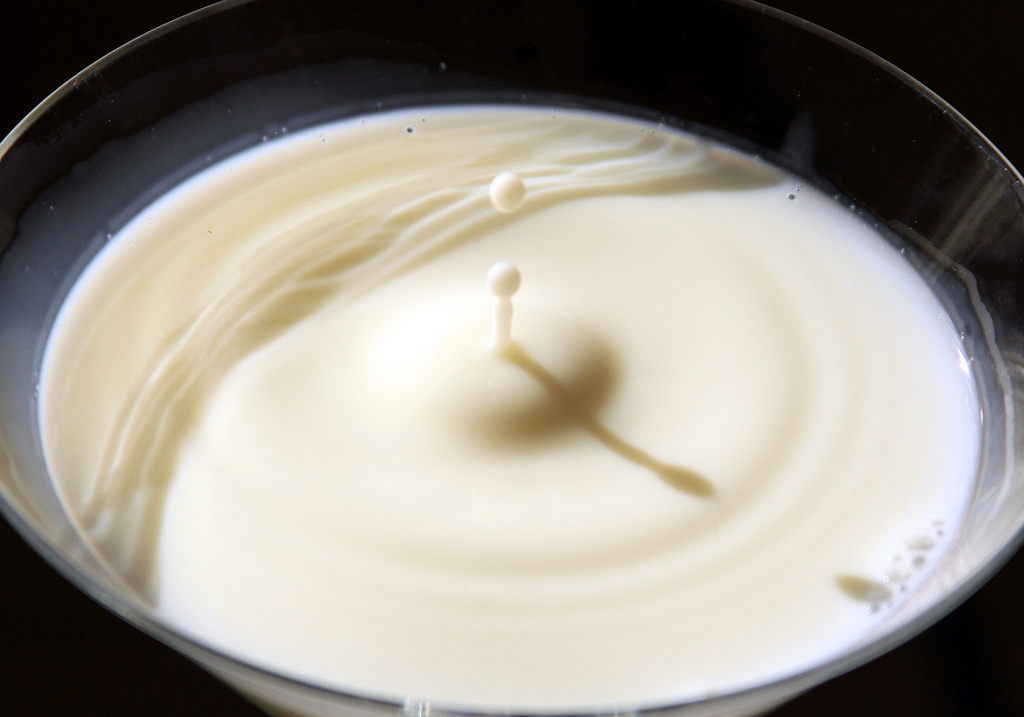glass of milk: (16, 34, 1004, 691)
